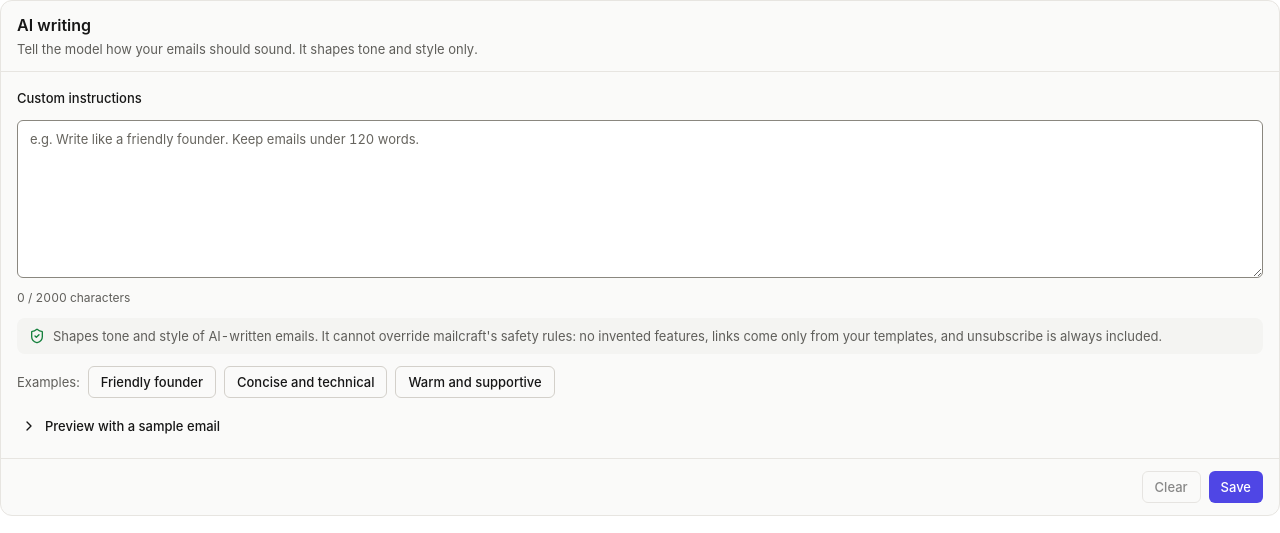
Test: InstructionsForm › presets fill the textarea
This screenshot has width=1280, height=533.
What coordinates should you click on to do the following:
click the button "Concise and technical"
I would click on:
 (306, 382)
Its box is [224,366,388,398].
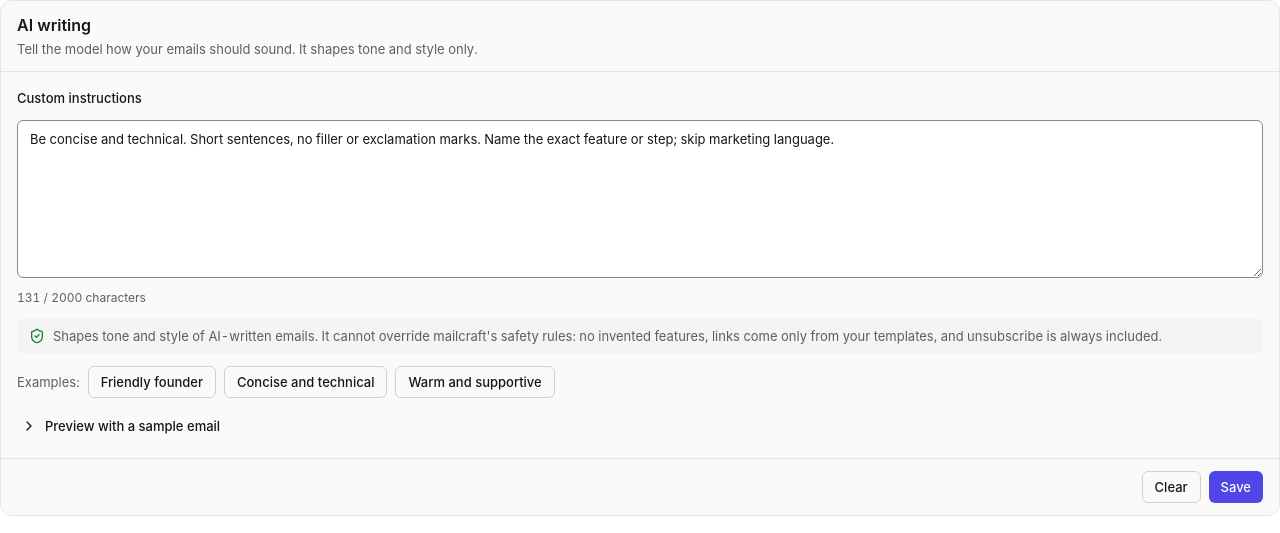
expect the text box labelled "Custom instructions" holds "Be concise and technical. Short sentences, no filler or exclamation marks. Name the exact feature or step; skip marketing language.": met, box [17,120,1263,278]
